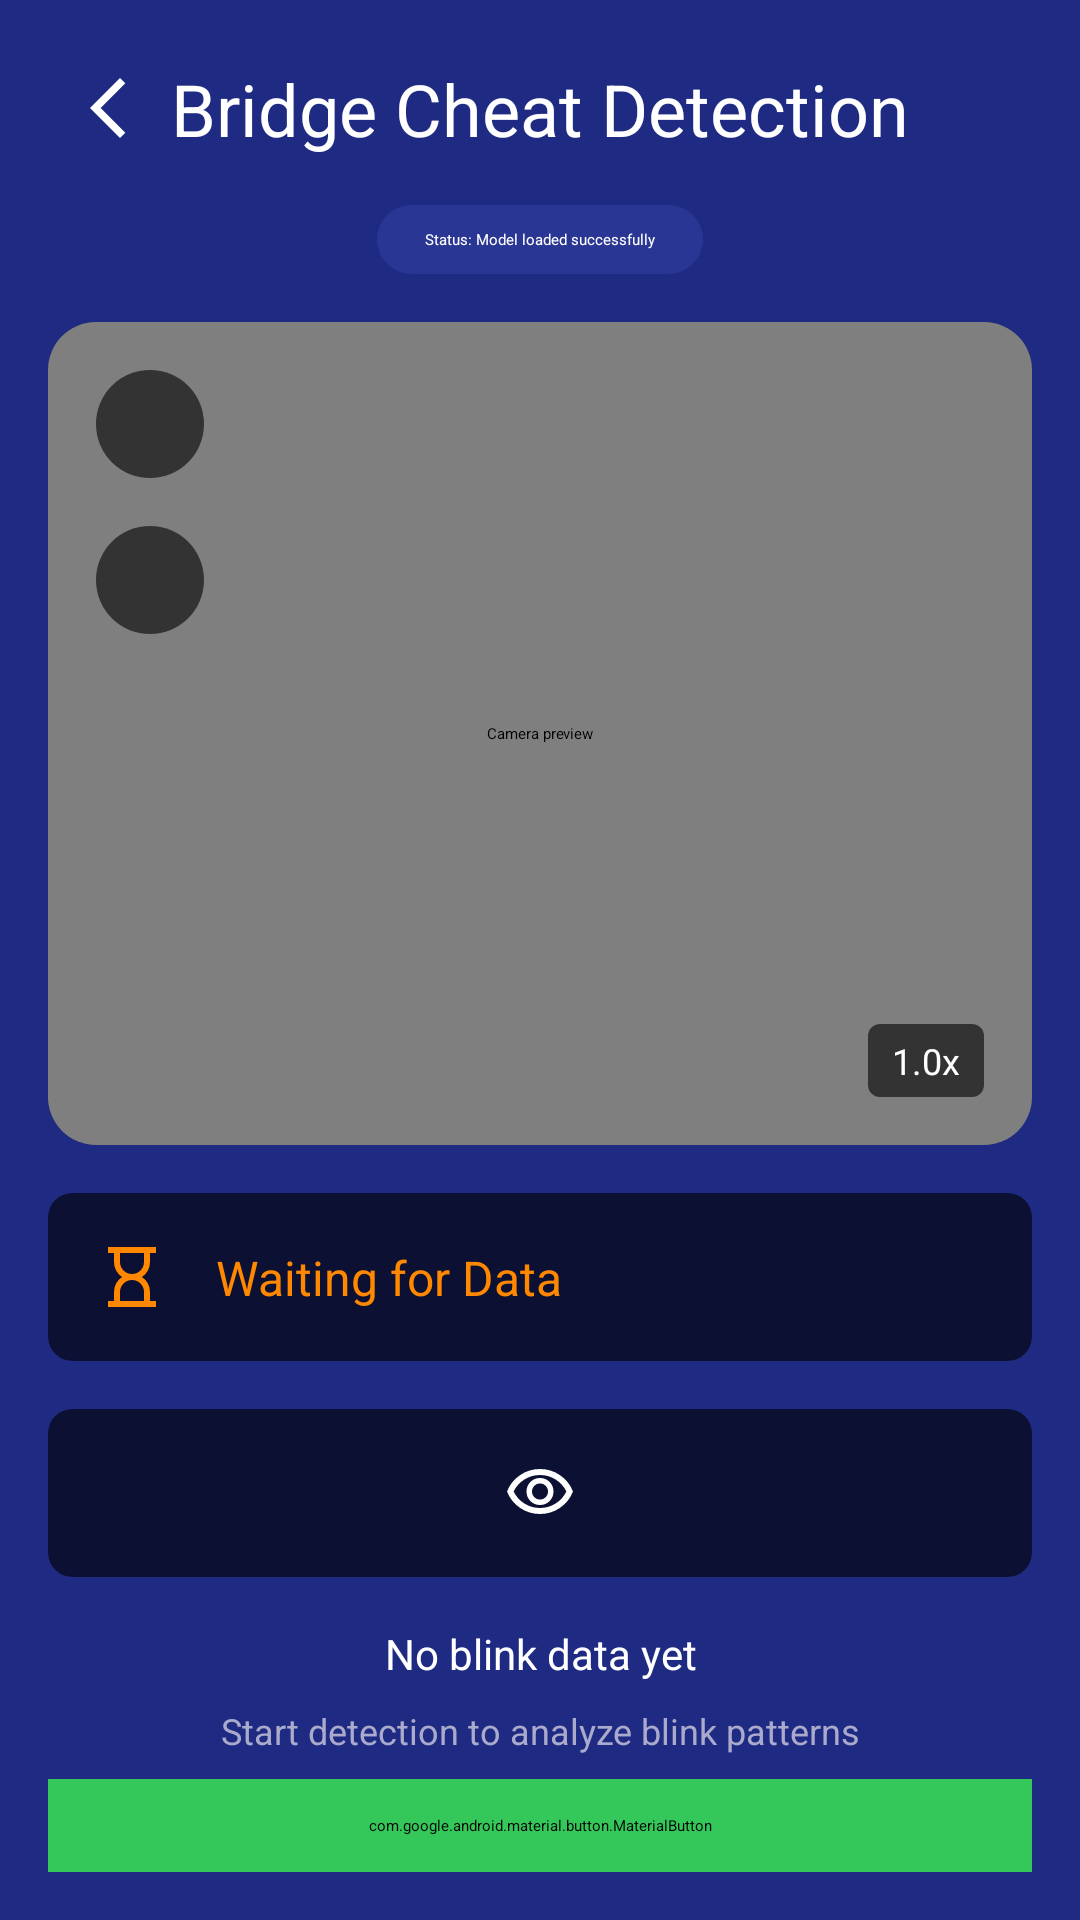

Point at icon controls on the screen. Image size 1080px×1920px, points as [x,y].
Back button: [107,108]
hourglass: [132,1277]
visibility: [540,1491]
